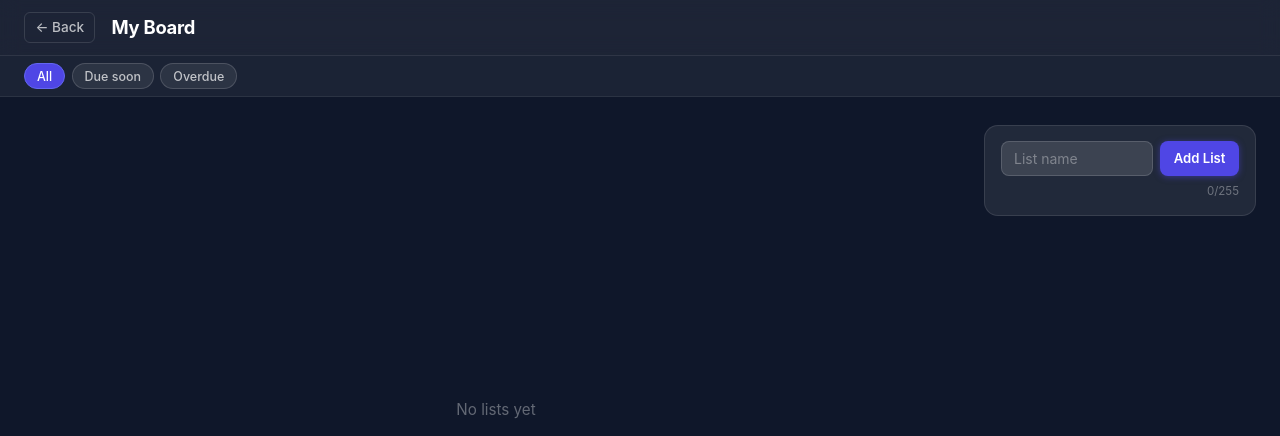
Test: create list › removes "No lists yet" after first list created
Expected: the text "No lists yet" is shown, [456,400,536,419]
Type "Alpha" into the field labelled "List name" at coordinates (1077, 158), box [1001,141,1153,176]
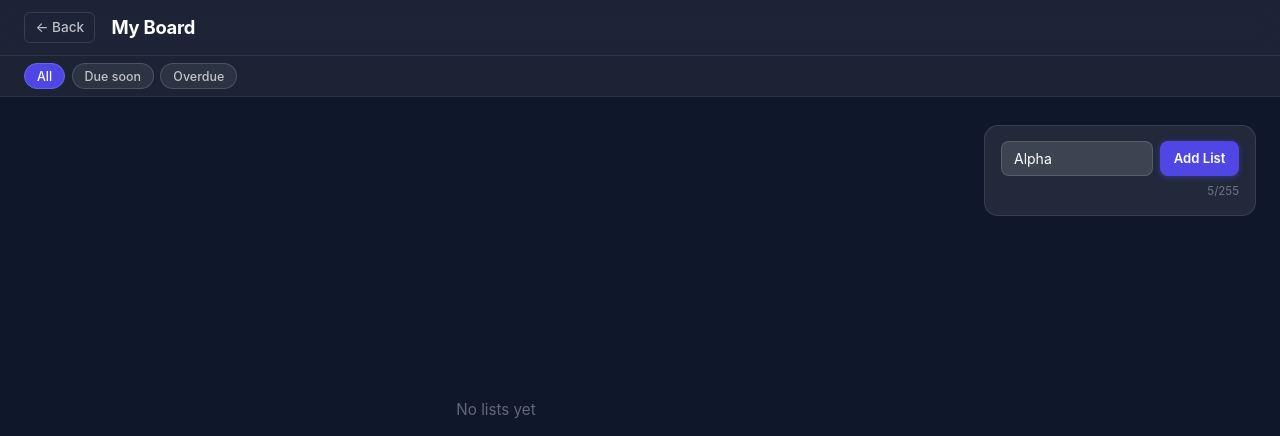
Click the button "Add List" at coordinates (1200, 158), box [1160,141,1239,176]
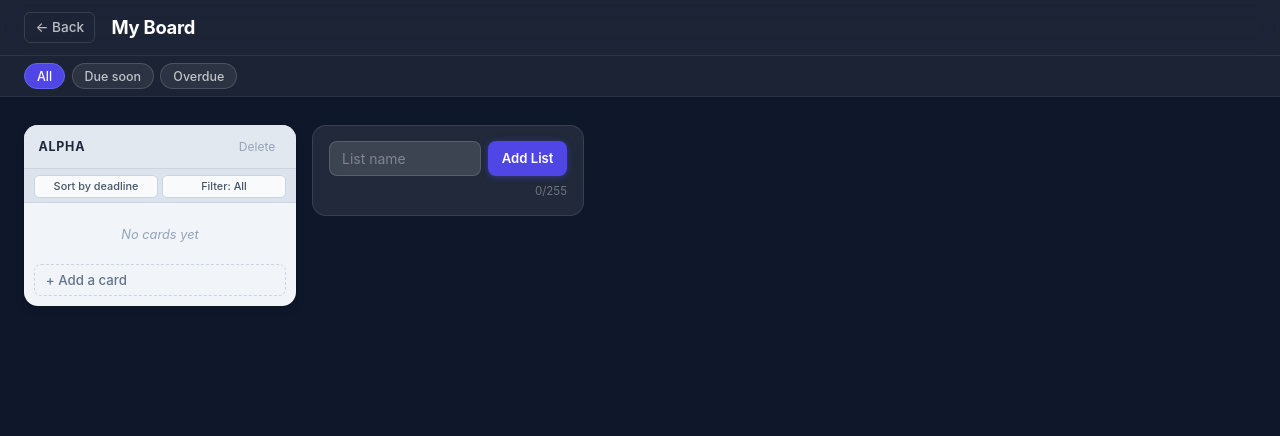
Now the text "Alpha" is shown, box [38,139,85,154]
Now the text "No lists yet" is gone
